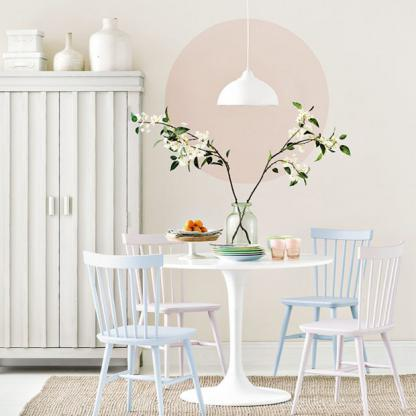chair: (67, 247, 204, 416), (286, 238, 414, 416), (120, 232, 229, 384), (277, 220, 372, 382)
light: (211, 0, 284, 110)
table: (132, 244, 341, 404)
